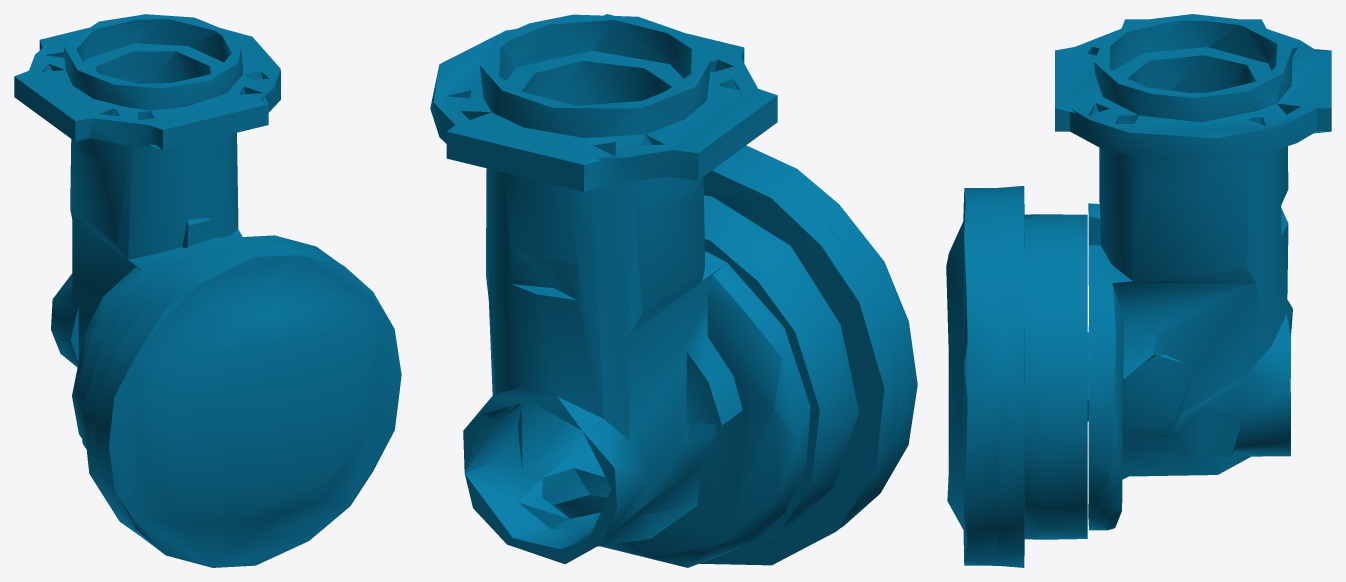
3 renders of one model, left to right at view 1: azimuth 30°, elevation 25°; view 2: azimuth 150°, elevation 25°; view 3: azimuth 270°, elevation 25°, orthographic. The views are drawn at different scales.
Visible parts, largest first — view 1: es165rd-a00_lk4; view 2: es165rd-a00_lk4; view 3: es165rd-a00_lk4.
Boxes of the visible parts, x1,y1,x2,y2 form: es165rd-a00_lk4: (14,14,401,567); es165rd-a00_lk4: (430,14,917,567); es165rd-a00_lk4: (946,14,1331,567).
Size of the model in its own units: 0.2226 by 0.2256 by 0.3194.
